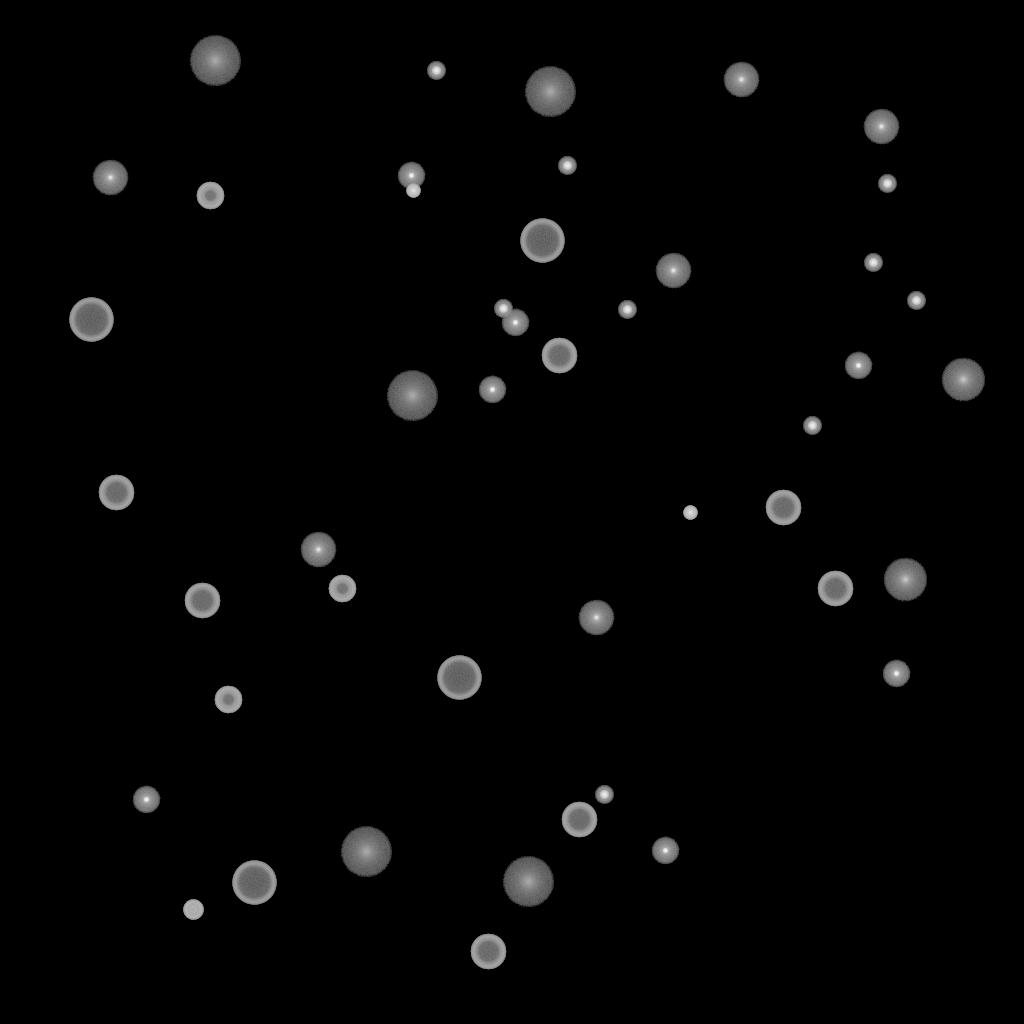depth:-10: (844, 352, 872, 380), (132, 786, 160, 814), (501, 309, 529, 337), (882, 660, 910, 688), (651, 837, 679, 865), (397, 162, 425, 190), (478, 376, 506, 404)
depth:-20: (558, 157, 576, 175), (878, 175, 896, 193), (907, 292, 925, 310), (595, 786, 613, 804), (864, 254, 882, 272), (494, 300, 512, 318), (618, 301, 636, 319), (427, 62, 445, 80), (803, 417, 821, 435)
depth:-30: (683, 506, 697, 520), (406, 184, 420, 198)
depth:-40: (183, 900, 203, 920)
depth:-50: (214, 686, 242, 714), (328, 575, 356, 603), (196, 182, 224, 210)
depth:-60: (541, 338, 577, 374), (184, 583, 220, 619), (98, 475, 134, 511), (470, 934, 506, 970), (561, 802, 597, 838), (765, 490, 801, 526), (817, 571, 853, 607)
depth:-70: (437, 656, 481, 700), (69, 298, 113, 342), (232, 861, 276, 905), (520, 219, 564, 263)
depth:0: (655, 253, 691, 289), (578, 600, 614, 636), (300, 532, 336, 568), (723, 62, 759, 98), (92, 160, 128, 196), (863, 109, 899, 145)
depth:10: (941, 358, 985, 402), (883, 558, 927, 602)
depth:20: (340, 827, 392, 877), (524, 67, 576, 117), (502, 857, 554, 907), (189, 36, 241, 86), (386, 371, 438, 421)
